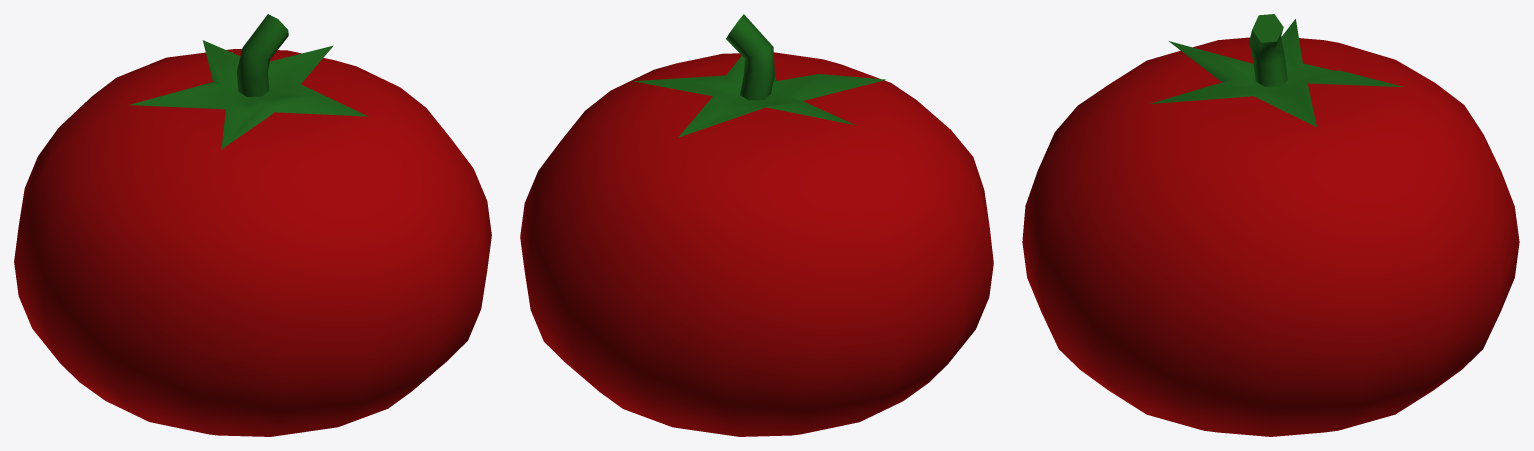
File: tomato.glb
3 views of the same model, side by side, from view 1: azimuth 30°, elevation 25°; view 2: azimuth 150°, elevation 25°; view 3: azimuth 270°, elevation 25° (orthographic). The views are drawn at different scales.
Visible parts, largest first — view 1: Sphere, Leaves, BezierCurve.001; view 2: Sphere, Leaves, BezierCurve.001; view 3: Sphere, Leaves, BezierCurve.001.
Boxes of the visible parts, x1,y1,x2,y2 form: Sphere: [14, 49, 491, 436]; Leaves: [129, 40, 368, 149]; BezierCurve.001: [237, 14, 288, 96]; Sphere: [520, 52, 993, 436]; Leaves: [634, 56, 886, 137]; BezierCurve.001: [726, 14, 774, 100]; Sphere: [1022, 36, 1519, 436]; Leaves: [1150, 19, 1404, 127]; BezierCurve.001: [1249, 14, 1287, 86].
Bounding box in the file's own units: 0.3502 × 0.3092 × 0.3502.
